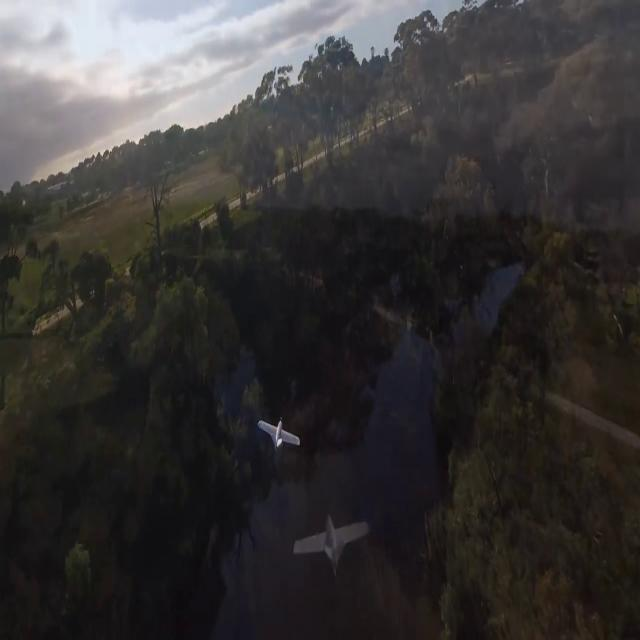iha: (256, 417, 304, 451)
